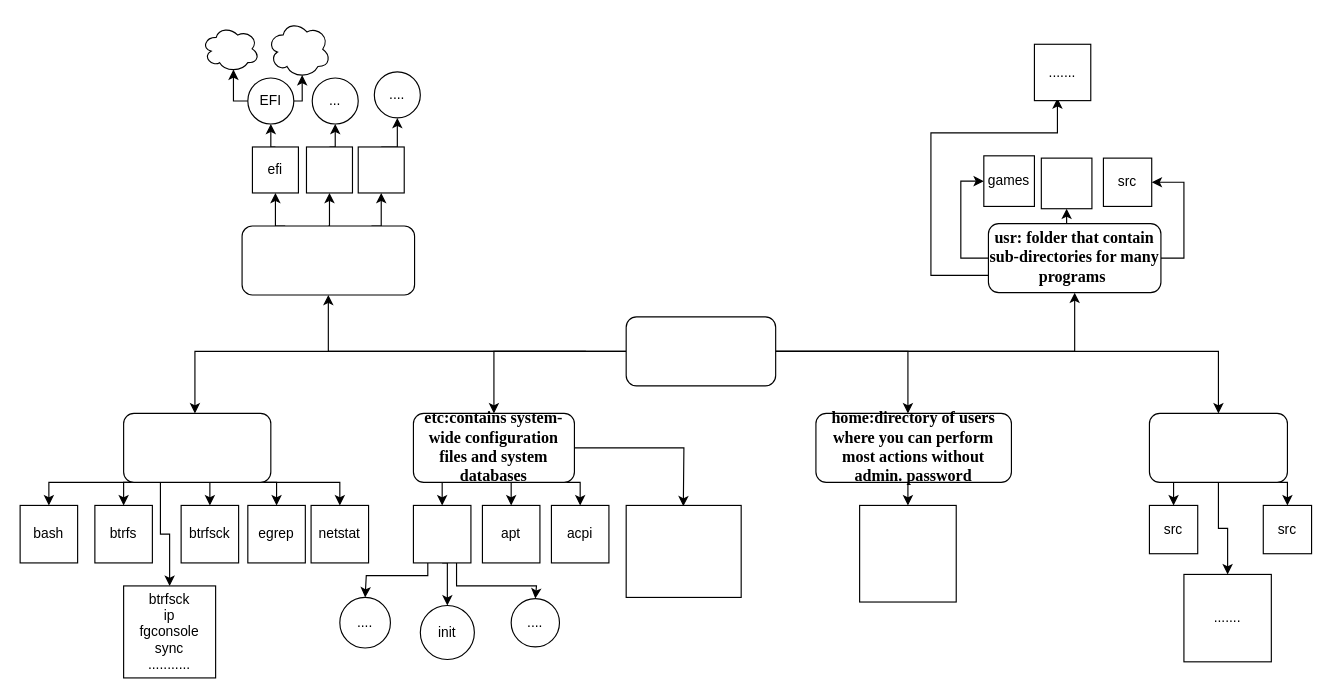
The diagram is 1332 pixels wide and 698 high, and some of its shapes have lost their labels. Each missing label, with the box of its shape:
/ (root): (625, 316, 776, 386)
apparmor: (412, 504, 471, 563)
bin: (1040, 157, 1092, 209)
bin: contains certain information as ls or cp.: (122, 412, 271, 482)
BOOT: (201, 25, 259, 72)
boot: holds files used inbooting the operating system: (241, 225, 415, 295)
grub: (305, 146, 352, 193)
initrd...: (357, 146, 404, 193)
jupyter-aruzhan149: (858, 504, 956, 602)
kernel issue python ............: (625, 504, 741, 597)
lib: stores file library: (1148, 412, 1287, 482)
ubuntu: (266, 19, 331, 78)
